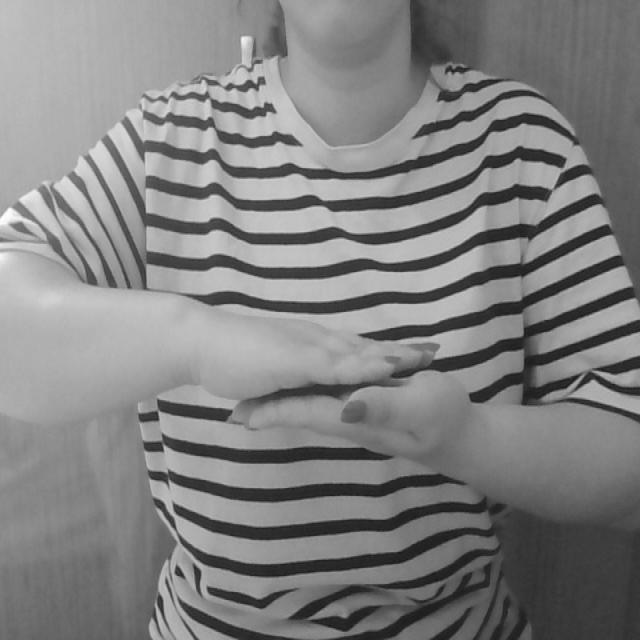Arkadas: (170, 280, 503, 472)
